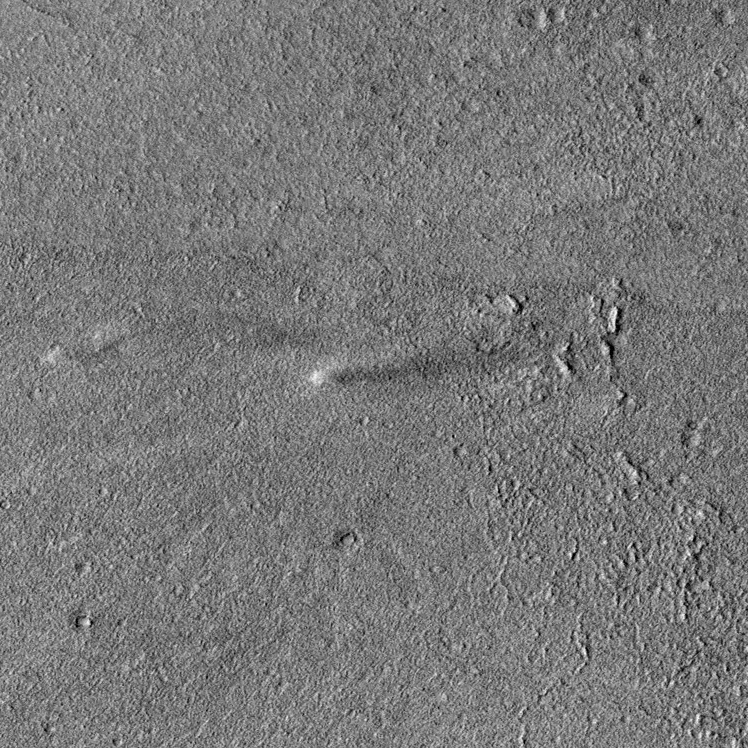dust_devil: (307, 342, 484, 391)
